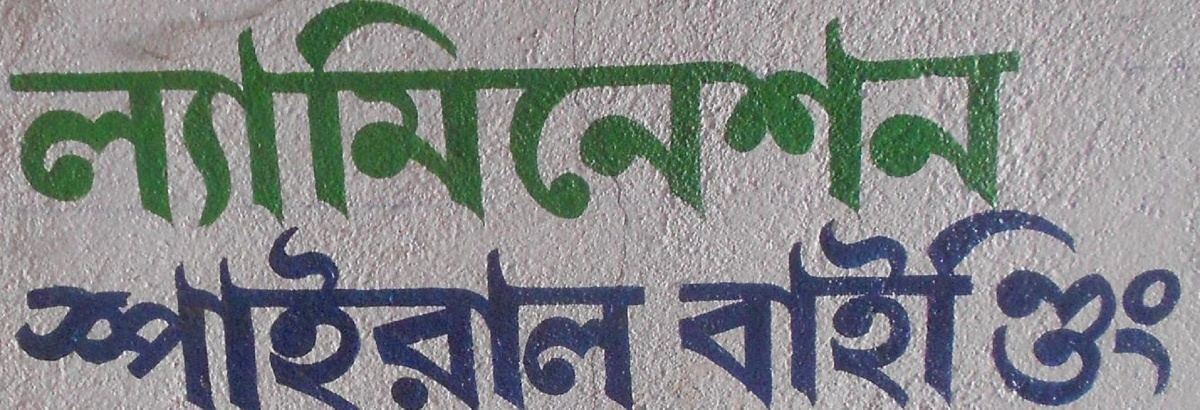text: (1, 4, 16, 237), (17, 4, 32, 237), (33, 4, 48, 237), (49, 4, 64, 237), (65, 4, 80, 237), (81, 4, 96, 237), (97, 4, 112, 237), (113, 4, 128, 237), (129, 4, 144, 237), (145, 4, 160, 237), (161, 4, 176, 237), (177, 4, 192, 237), (193, 4, 208, 237), (209, 4, 224, 237), (225, 4, 240, 237), (241, 4, 256, 237), (257, 4, 272, 237), (273, 4, 288, 237), (289, 4, 304, 237), (305, 4, 320, 237), (321, 4, 336, 237), (337, 4, 352, 237), (353, 4, 368, 237), (369, 4, 384, 237), (385, 4, 400, 237), (401, 4, 416, 237), (417, 4, 432, 237), (433, 4, 448, 237), (449, 4, 464, 237), (465, 4, 480, 237), (481, 4, 496, 237), (497, 4, 512, 237), (513, 4, 528, 237), (529, 4, 544, 237), (545, 4, 560, 237), (561, 4, 576, 237), (577, 4, 592, 237), (593, 4, 608, 237), (609, 4, 624, 237), (625, 4, 640, 237), (641, 4, 656, 237), (657, 4, 672, 237), (673, 4, 688, 237), (689, 4, 704, 237), (705, 4, 720, 237), (721, 4, 736, 237), (737, 4, 752, 237), (753, 4, 768, 237), (769, 4, 784, 237), (785, 4, 800, 237), (801, 4, 816, 237), (817, 4, 832, 237), (833, 4, 848, 237), (849, 4, 864, 237), (865, 4, 880, 237), (881, 4, 896, 237), (897, 4, 912, 237), (913, 4, 928, 237), (929, 4, 944, 237), (945, 4, 960, 237), (961, 4, 976, 237), (977, 4, 992, 237), (993, 4, 1008, 237), (1009, 4, 1024, 237), (689, 210, 704, 409), (705, 210, 720, 409), (721, 210, 736, 409), (737, 210, 752, 409), (753, 210, 768, 409), (769, 210, 784, 409), (785, 210, 800, 409), (801, 210, 816, 409), (817, 210, 832, 409), (833, 210, 848, 409), (849, 210, 864, 409), (865, 210, 880, 409), (881, 210, 896, 409), (897, 210, 912, 409), (913, 210, 928, 409), (929, 210, 944, 409), (945, 210, 960, 409), (961, 210, 976, 409), (977, 210, 992, 409), (993, 210, 1008, 409), (1009, 210, 1024, 409), (1025, 210, 1040, 409), (1041, 210, 1056, 409), (1057, 210, 1072, 409), (1073, 210, 1088, 409), (1089, 210, 1104, 409), (1105, 210, 1120, 409), (1121, 210, 1136, 409), (1137, 210, 1152, 409), (1153, 210, 1168, 409), (1169, 210, 1184, 409), (641, 230, 657, 409), (17, 230, 32, 409), (33, 230, 48, 409), (49, 230, 64, 409), (65, 230, 80, 409), (81, 230, 96, 409), (97, 230, 112, 409), (113, 230, 128, 409), (129, 230, 144, 409), (145, 230, 160, 409), (161, 230, 176, 409), (177, 230, 192, 409), (193, 230, 208, 409), (209, 230, 224, 409), (225, 230, 240, 409), (241, 230, 256, 409), (257, 230, 272, 409), (273, 230, 288, 409), (289, 230, 304, 409), (305, 230, 320, 409), (321, 230, 336, 409), (337, 230, 352, 409), (353, 230, 368, 409), (369, 230, 384, 409), (385, 230, 400, 409), (401, 230, 416, 409), (417, 230, 432, 409), (433, 230, 448, 409), (449, 230, 464, 409), (465, 230, 480, 409), (481, 230, 496, 409), (497, 230, 512, 409), (513, 230, 528, 409), (529, 230, 544, 409), (545, 230, 560, 409), (561, 230, 576, 409), (577, 230, 592, 409), (593, 230, 608, 409), (609, 230, 624, 409), (625, 230, 640, 409), (675, 210, 688, 409), (1025, 4, 1028, 237), (13, 230, 16, 409)
